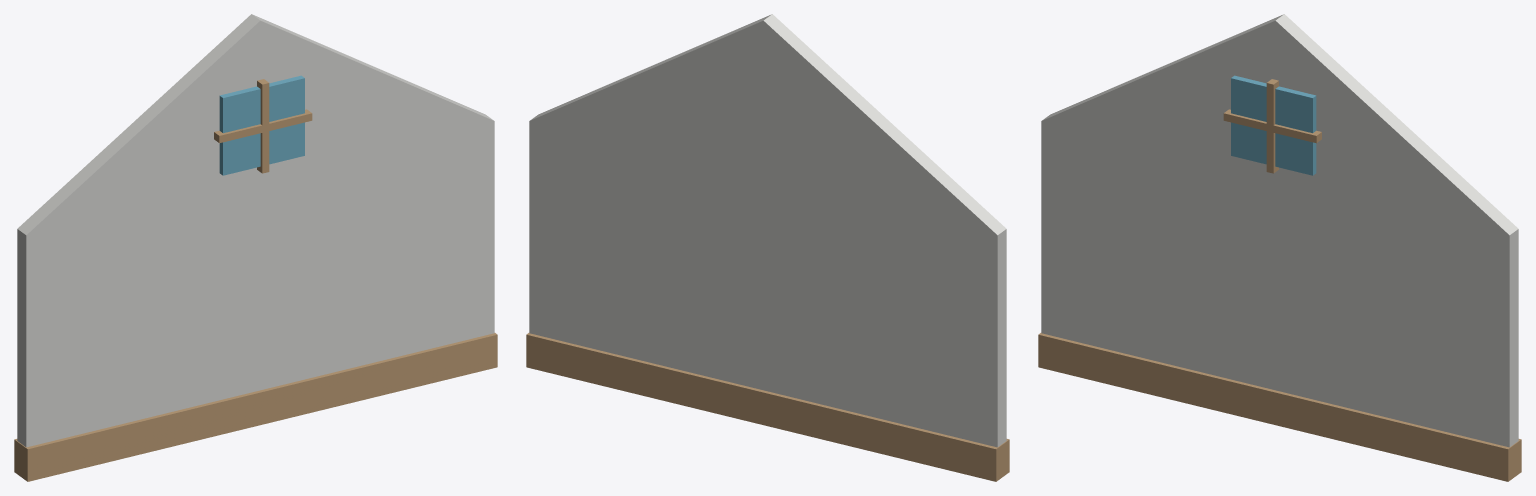
Rendered from golf-course-and-clubhouse-clubhouse-gable-end-aa3bdc3e__33495.glb.
The picture shows the model from 3 angles, left to right: view 1: azimuth 30°, elevation 25°; view 2: azimuth 150°, elevation 25°; view 3: azimuth 330°, elevation 25°; orthographic projection.
Parts seen in each view (by area): view 1: clubhouse-gable-end; view 2: clubhouse-gable-end; view 3: clubhouse-gable-end.
Boxes of the visible parts, box(x1,y1,x2,y2) form: clubhouse-gable-end: box(14, 14, 497, 481); clubhouse-gable-end: box(526, 14, 1009, 481); clubhouse-gable-end: box(1038, 14, 1521, 481).
Size of the model in its own units: 6.02 by 4.93 by 0.3696.
